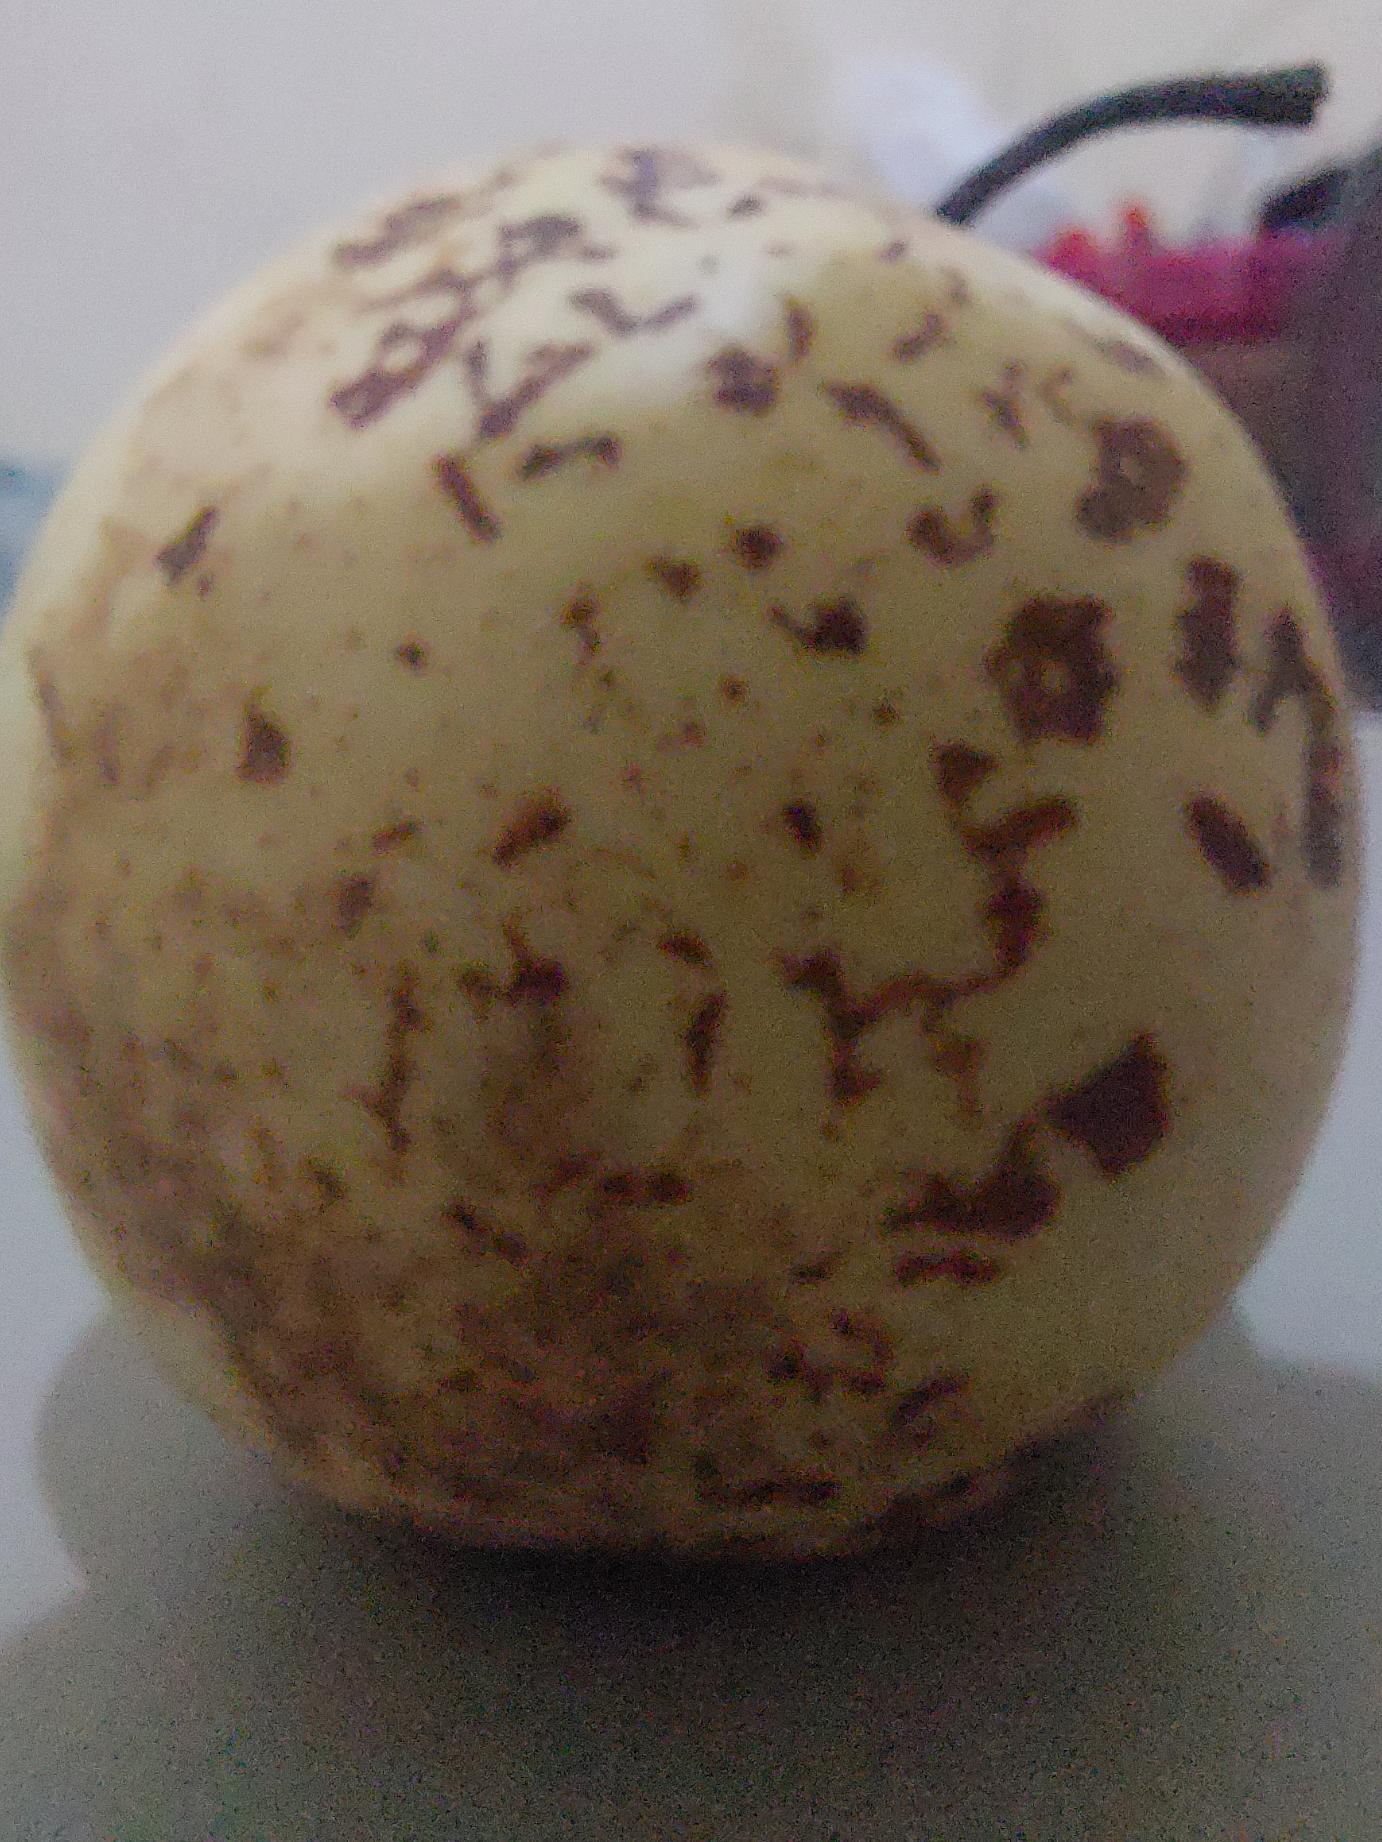Bad Pear: (0, 46, 1382, 1597)
